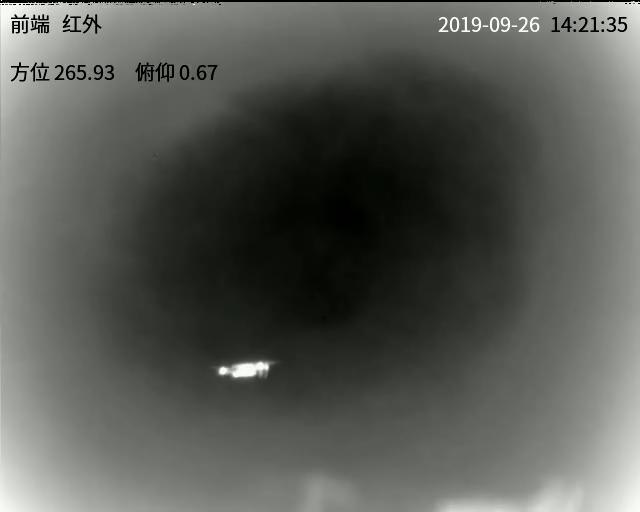uav: (215, 354, 278, 382)
